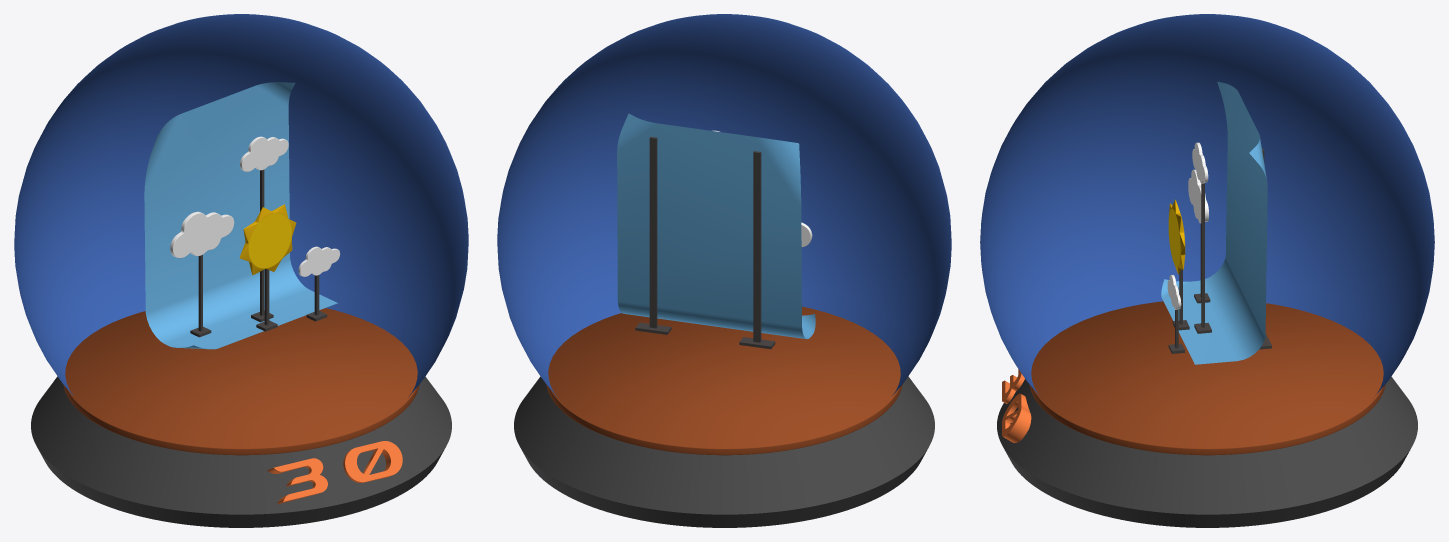
Rendered from Curio_30.glb.
The picture shows the model from 3 angles, left to right: view 1: azimuth 30°, elevation 25°; view 2: azimuth 150°, elevation 25°; view 3: azimuth 270°, elevation 25°; orthographic projection.
Parts seen in each view (by area): view 1: Sphere.098, Sphere.097, Cylinder.038, Sphere.096, Text.037; view 2: Sphere.098, Sphere.097, Cylinder.038, Sphere.096; view 3: Sphere.098, Sphere.097, Sphere.096, Cylinder.038, Text.037.
Boxes of the visible parts, box(x1,y1,x2,y2) form: Sphere.098: box(14, 14, 468, 397); Sphere.097: box(63, 308, 419, 455); Cylinder.038: box(144, 82, 340, 349); Sphere.096: box(31, 376, 451, 527); Text.037: box(267, 441, 402, 504); Sphere.098: box(497, 14, 951, 397); Sphere.097: box(546, 306, 902, 455); Cylinder.038: box(617, 113, 815, 349); Sphere.096: box(514, 376, 934, 527); Sphere.098: box(980, 14, 1434, 395); Sphere.097: box(1029, 301, 1385, 455); Sphere.096: box(997, 376, 1417, 527); Cylinder.038: box(1161, 81, 1271, 364); Text.037: box(1002, 369, 1031, 442).
Size of the model in its own units: 4.66 by 4.62 by 4.66.
